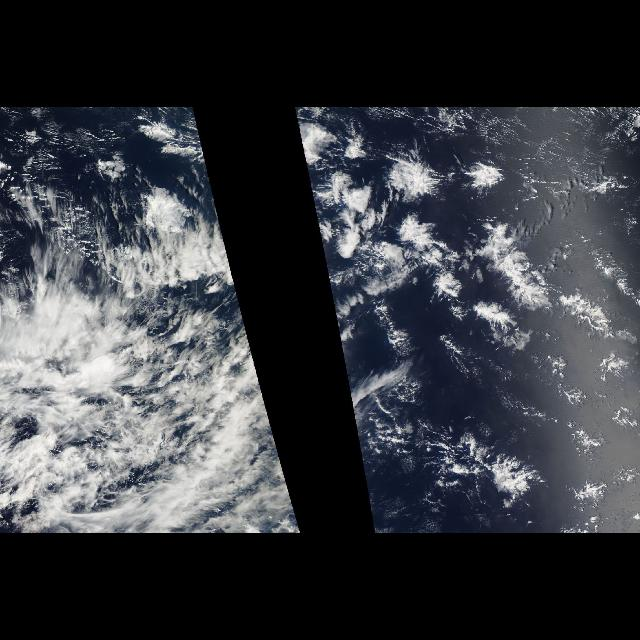Fish: (347, 134, 578, 392)
Flower: (312, 134, 620, 346)
